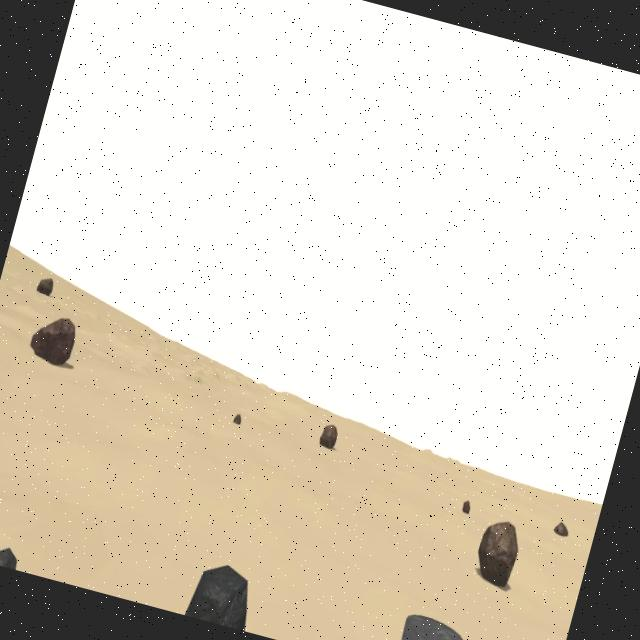rock: (182, 558, 260, 631), (469, 516, 524, 592), (26, 311, 79, 367), (317, 421, 340, 450), (0, 539, 21, 570), (35, 274, 54, 296), (552, 521, 570, 536), (462, 499, 472, 513), (232, 413, 242, 426)
